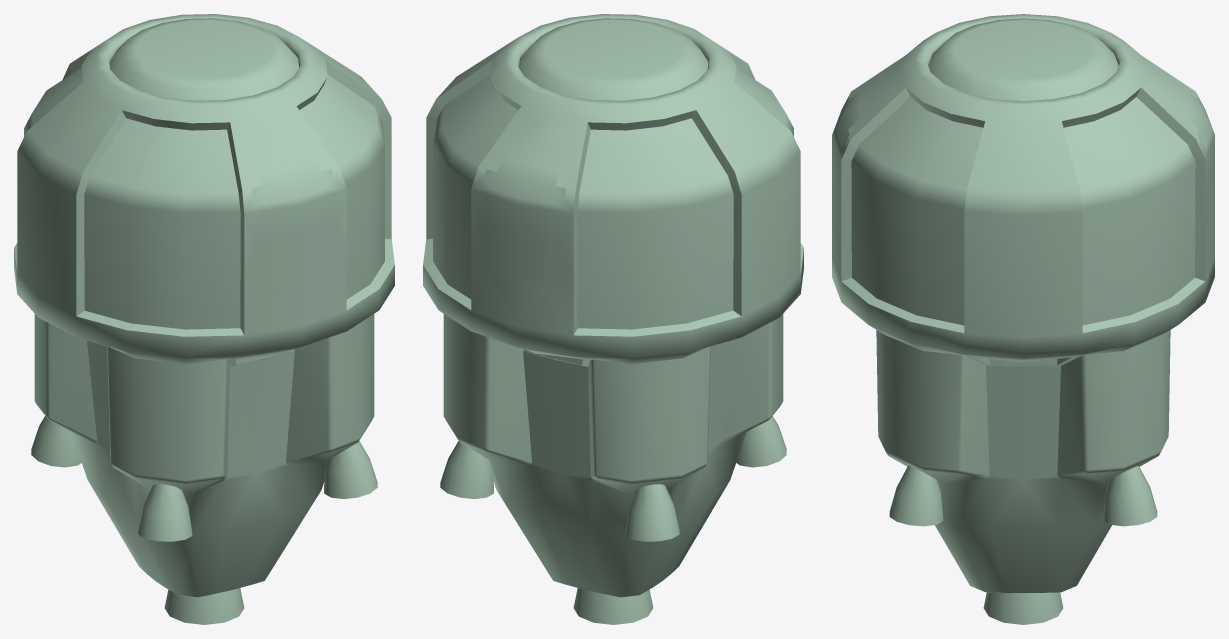
The model's file is REENTRY_CRAFT_BODY_withHOLES_mesh.fbx.
The picture shows the model from 3 angles, left to right: view 1: azimuth 30°, elevation 25°; view 2: azimuth 150°, elevation 25°; view 3: azimuth 270°, elevation 25°; orthographic projection.
Visible parts, largest first — view 1: POD_BOD_DOORHOLES_GEO, POD_DOOR_02_GEO; view 2: POD_BOD_DOORHOLES_GEO, POD_DOOR_01_GEO; view 3: POD_BOD_DOORHOLES_GEO, POD_DOOR_01_GEO, POD_DOOR_02_GEO.
Part boxes in pixels (x1,y1,x2,y2): POD_BOD_DOORHOLES_GEO: (14, 14, 394, 624); POD_DOOR_02_GEO: (252, 125, 338, 291); POD_BOD_DOORHOLES_GEO: (423, 14, 803, 624); POD_DOOR_01_GEO: (479, 125, 565, 291); POD_BOD_DOORHOLES_GEO: (832, 14, 1214, 624); POD_DOOR_01_GEO: (1156, 73, 1214, 230); POD_DOOR_02_GEO: (832, 73, 890, 230).
Size of the model in its own units: 5.8 by 9.33 by 5.8.
